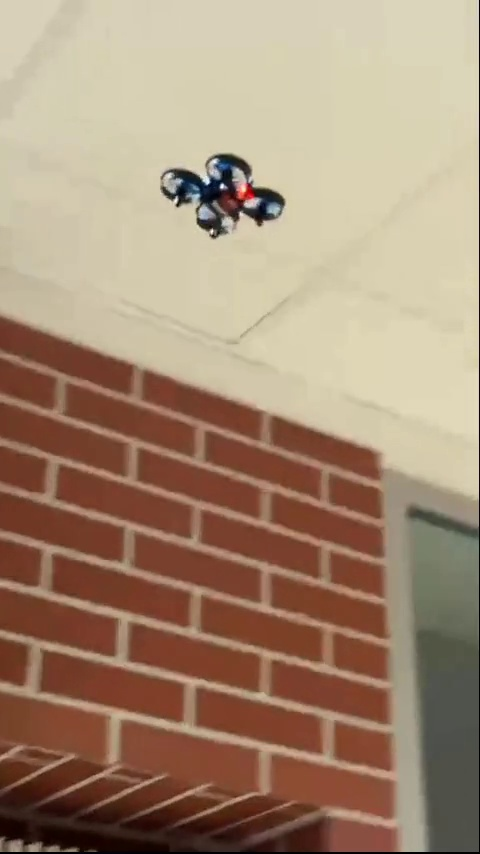drone: (156, 153, 289, 238)
